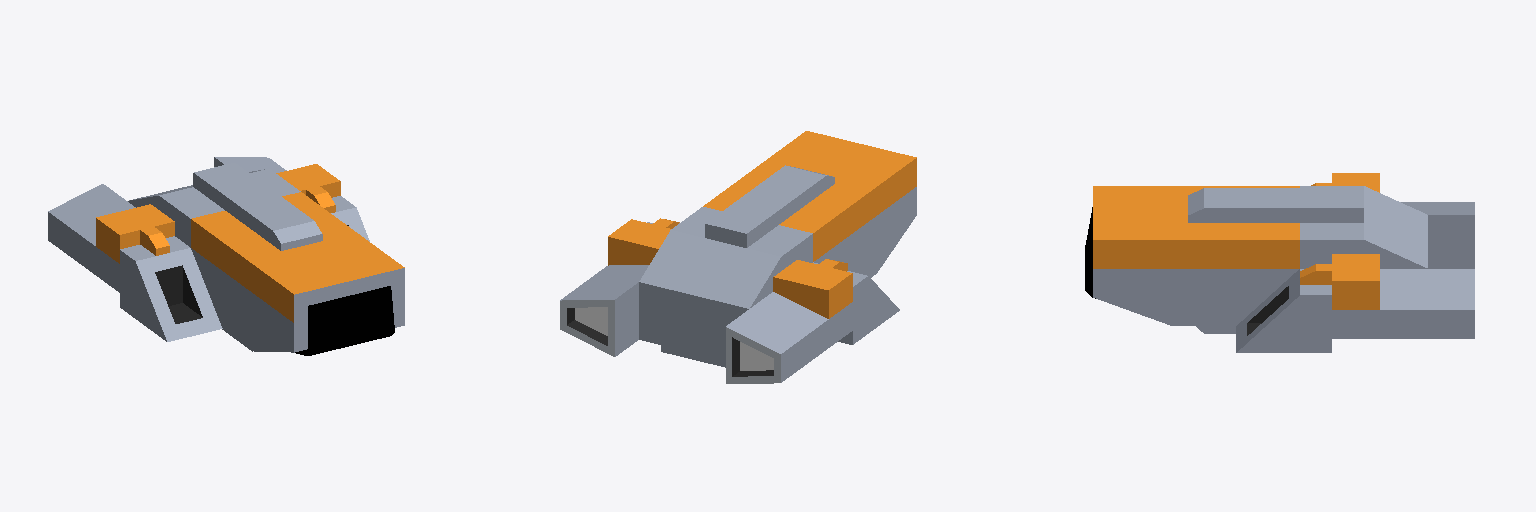
The model's file is craft_cargoA.obj.
The picture shows the model from 3 angles: view 1: azimuth 30°, elevation 25°; view 2: azimuth 150°, elevation 25°; view 3: azimuth 270°, elevation 25°; orthographic projection.
Visible parts, largest first — view 1: craft_cargoA; view 2: craft_cargoA; view 3: craft_cargoA.
Boxes of the visible parts, x1=… form: craft_cargoA: x1=48, y1=157, x2=404, y2=355; craft_cargoA: x1=560, y1=131, x2=916, y2=383; craft_cargoA: x1=1085, y1=173, x2=1474, y2=352.
Bounding box in the file's own units: 1.6 × 0.8 × 2.45.